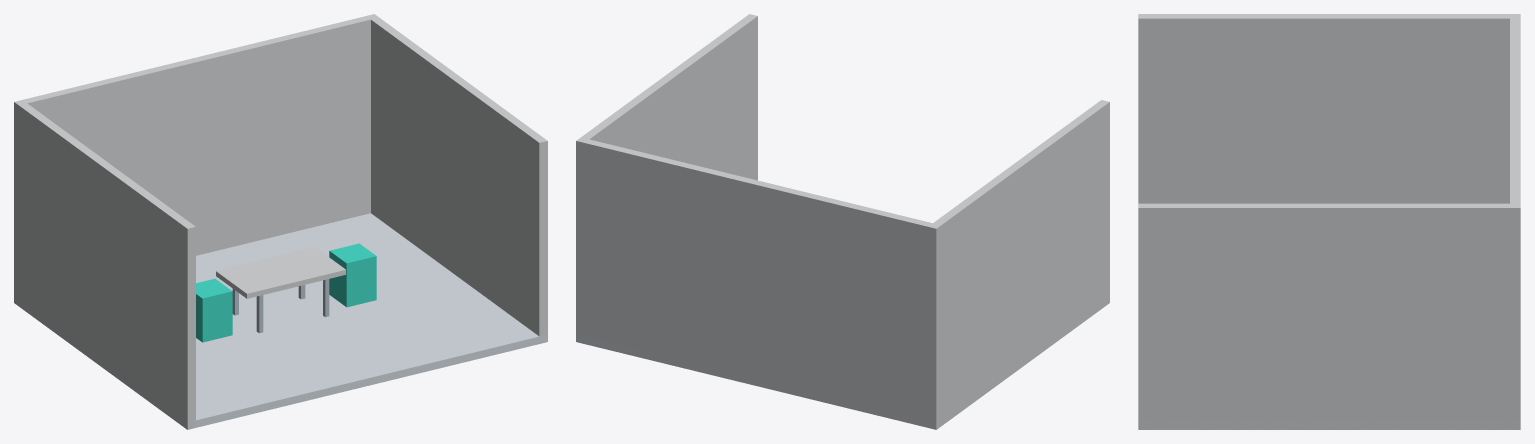
3 renders of one model, left to right at view 1: azimuth 30°, elevation 25°; view 2: azimuth 150°, elevation 25°; view 3: azimuth 270°, elevation 25°, orthographic. The views are drawn at different scales.
Parts seen in each view (by area): view 1: Exhibition Booth Concept; view 2: Exhibition Booth Concept; view 3: Exhibition Booth Concept.
Part boxes in pixels (box(x1,y1,x2,y2)): Exhibition Booth Concept: box(14, 14, 547, 429); Exhibition Booth Concept: box(576, 14, 1109, 429); Exhibition Booth Concept: box(1138, 14, 1520, 429).
Bounding box in the file's own units: 6 × 3.2 × 5.
